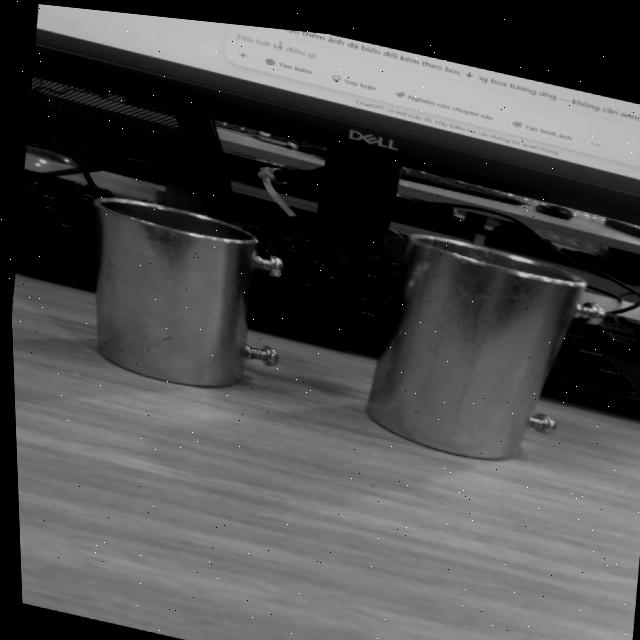Co_Lon: (348, 220, 612, 484)
Co_Nho: (85, 195, 285, 387)
